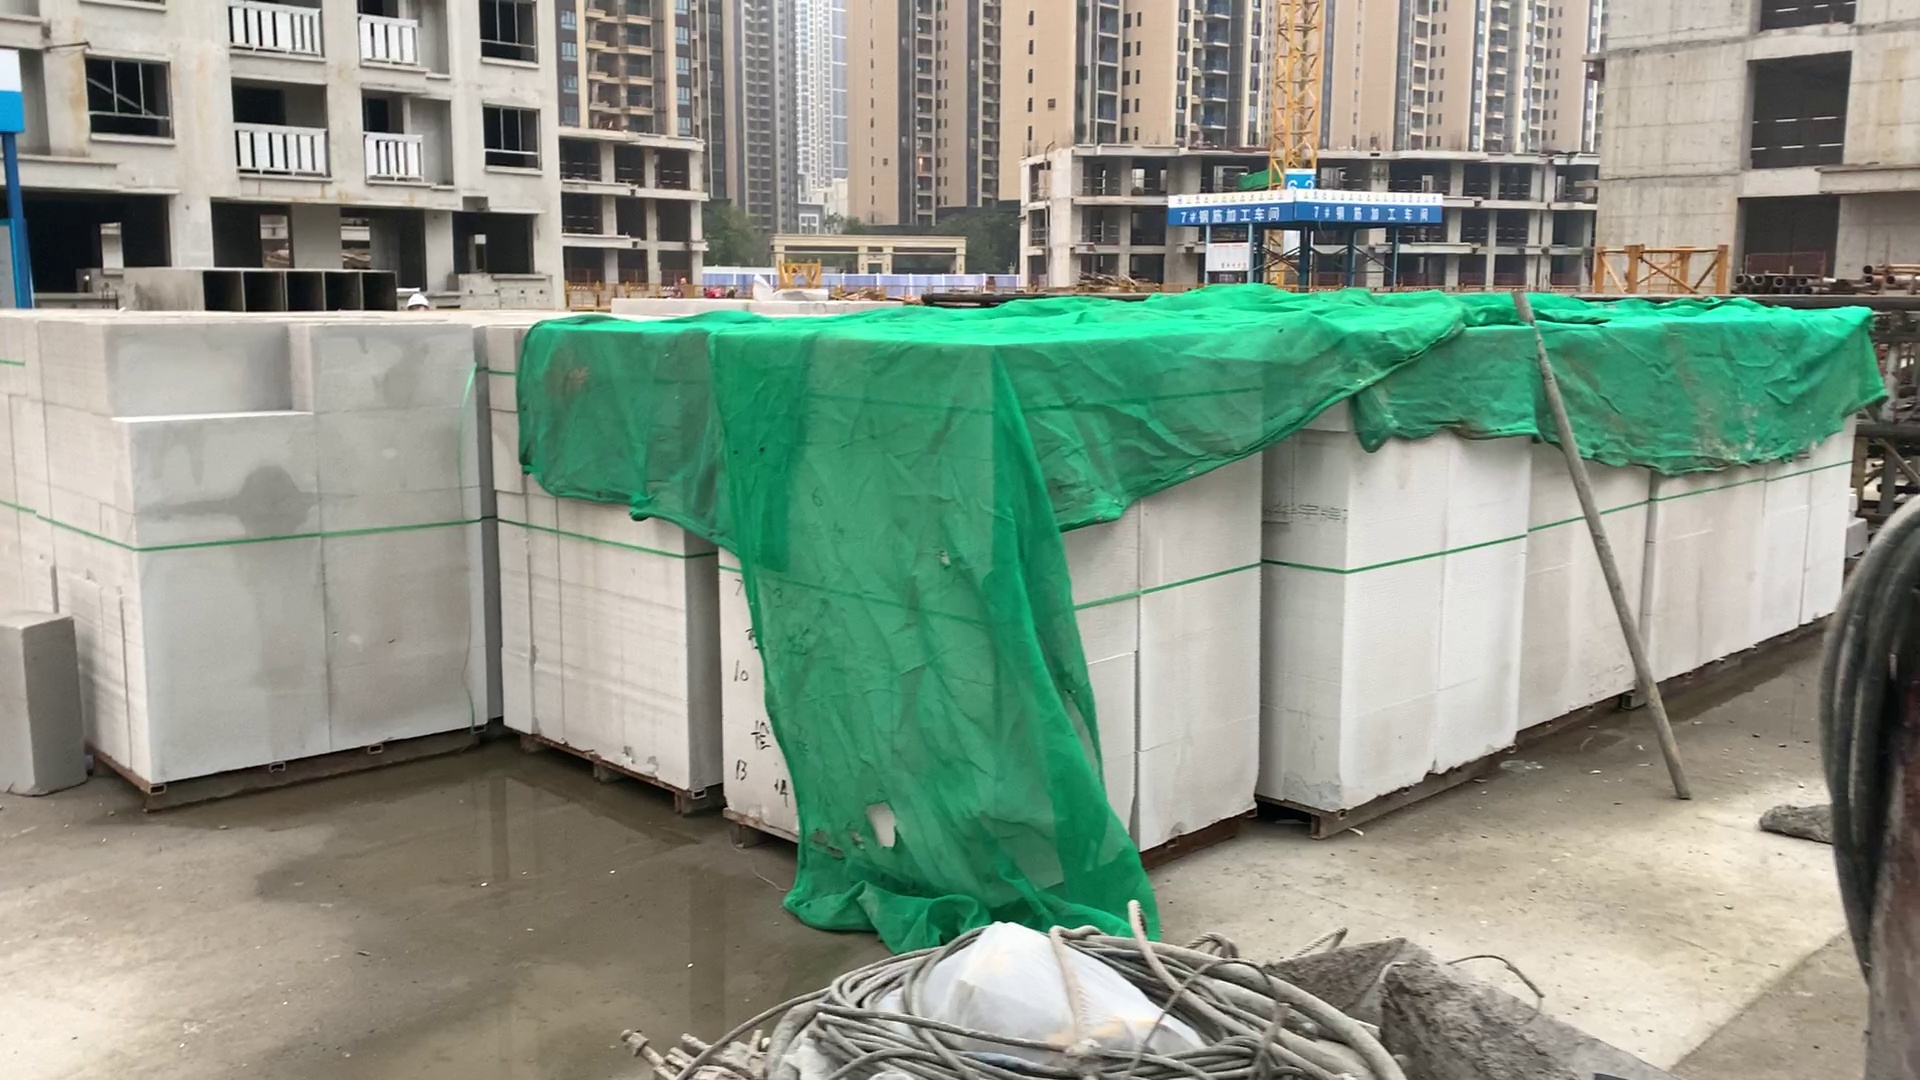brickwork: (707, 338, 1000, 903), (102, 322, 484, 752), (481, 326, 703, 793), (1652, 338, 1845, 680), (1254, 331, 1365, 825), (1526, 322, 1643, 735)
